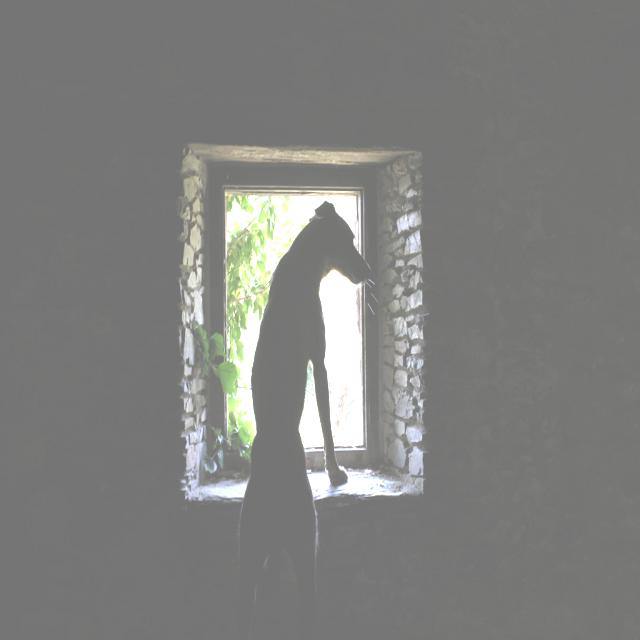Dog: (200, 185, 408, 596)
